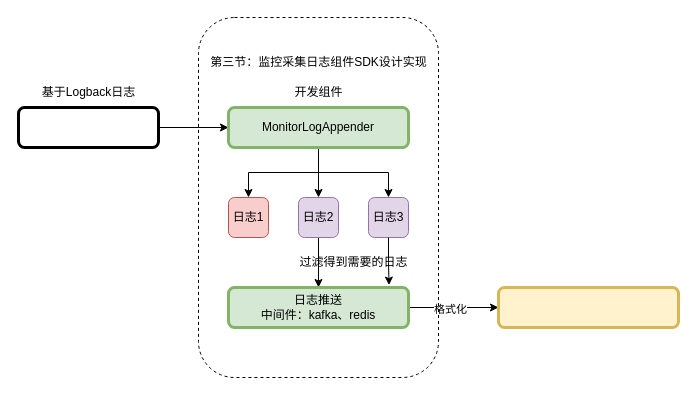
Some shapes in this 697 by 395 pixel diagram are drawn without their labels. Here are the shapes that lost their labels. From the top down, the box of each, then its label:
(16, 106, 160, 148): logback
(496, 286, 680, 328): 监控中心 监听消息
